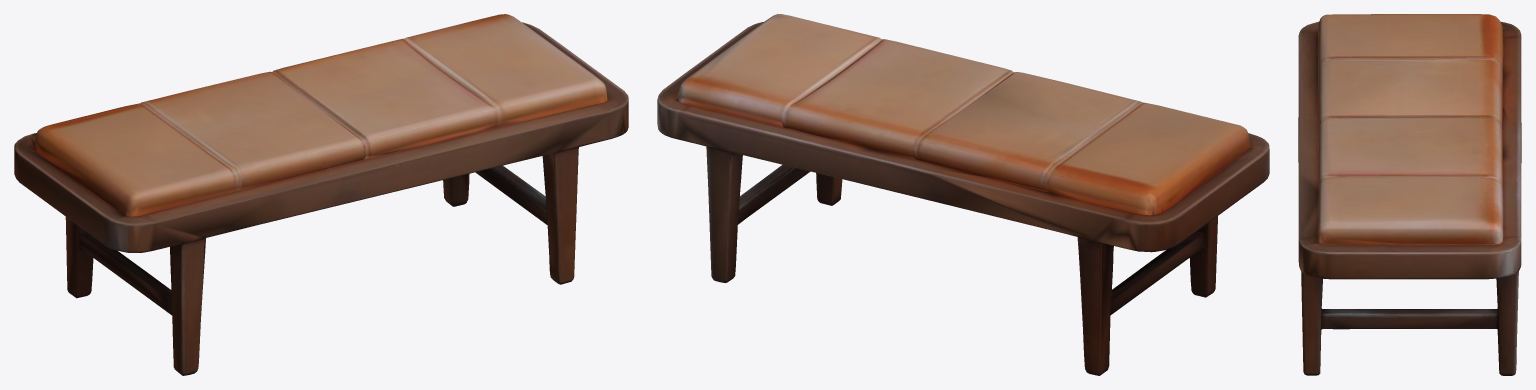
The picture shows the model from 3 angles, left to right: view 1: azimuth 30°, elevation 25°; view 2: azimuth 150°, elevation 25°; view 3: azimuth 270°, elevation 25°; orthographic projection. The views are drawn at different scales.
Parts seen in each view (by area): view 1: geometry_0; view 2: geometry_0; view 3: geometry_0.
Boxes of the visible parts, bbox=[...] form: geometry_0: bbox=[14, 14, 628, 375]; geometry_0: bbox=[657, 14, 1269, 375]; geometry_0: bbox=[1298, 14, 1521, 375].
Bounding box in the file's own units: 0.9981 × 0.3422 × 0.4033.
Materials: 1 (1 with a texture image).
